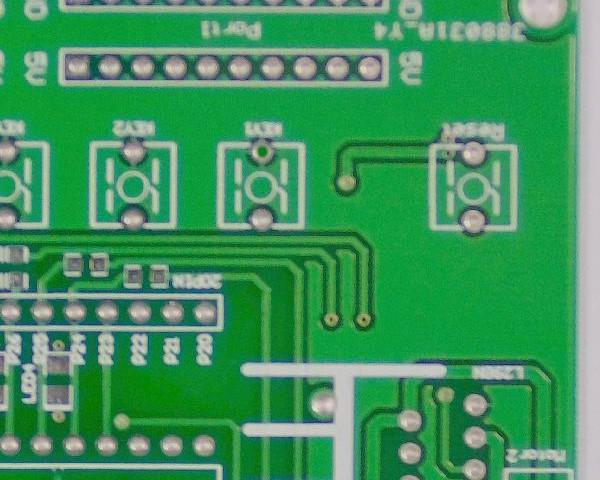missing hole: (244, 134, 283, 170)
